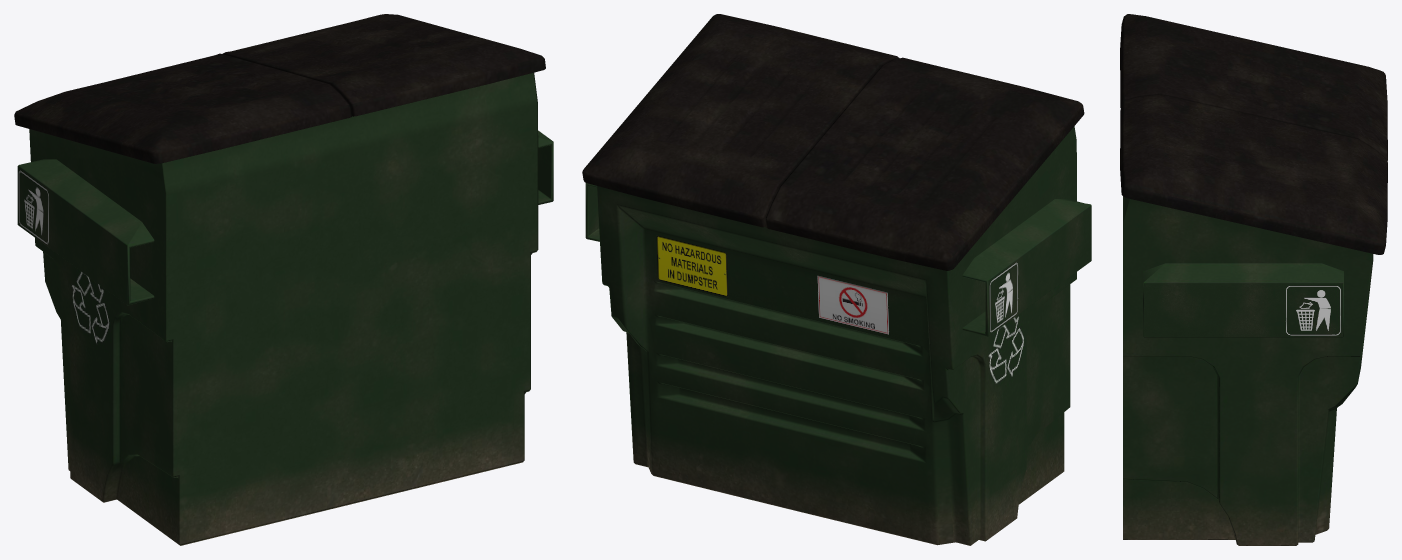
Rendered from Green Big Dumpster.fbx.
3 views of the same model, side by side, from view 1: azimuth 30°, elevation 25°; view 2: azimuth 150°, elevation 25°; view 3: azimuth 270°, elevation 25° (orthographic). The views are drawn at different scales.
Parts seen in each view (by area): view 1: Green Big Dumpster; view 2: Green Big Dumpster; view 3: Green Big Dumpster.
Part boxes in pixels (x1,y1,x2,y2): Green Big Dumpster: [14, 14, 553, 545]; Green Big Dumpster: [582, 14, 1091, 545]; Green Big Dumpster: [1120, 14, 1387, 545].
Bounding box in the file's own units: 154 × 140 × 91.43.
